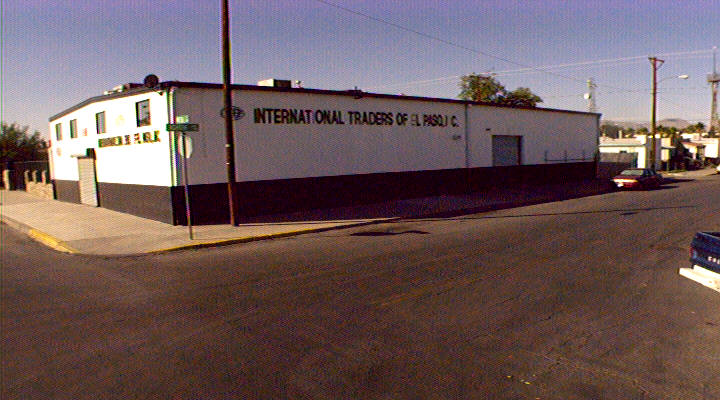Ramp: (50, 229, 206, 262)
